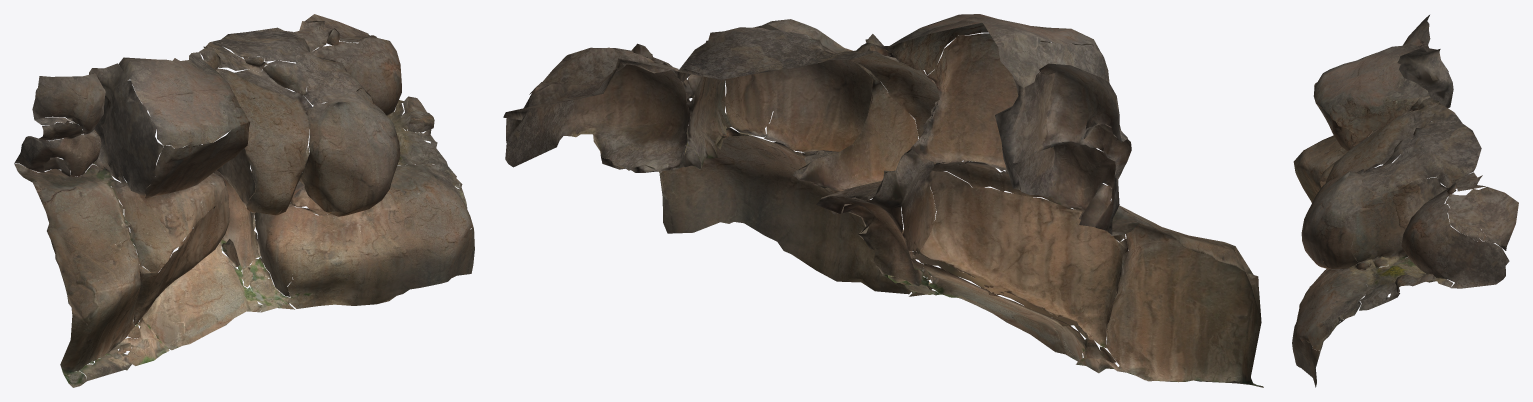
The model's file is namaqualand_cliff_01_lod1.glb.
3 renders of one model, left to right at view 1: azimuth 30°, elevation 25°; view 2: azimuth 150°, elevation 25°; view 3: azimuth 270°, elevation 25°, orthographic. The views are drawn at different scales.
Parts seen in each view (by area): view 1: drone_rock_01; view 2: drone_rock_01; view 3: drone_rock_01.
Part boxes in pixels (x1=…): drone_rock_01: x1=14, y1=14, x2=474, y2=387; drone_rock_01: x1=503, y1=14, x2=1263, y2=387; drone_rock_01: x1=1292, y1=15, x2=1518, y2=387.
Bounding box in the file's own units: 8.27 × 4.95 × 4.38.
Materials: 1 (1 with a texture image).
